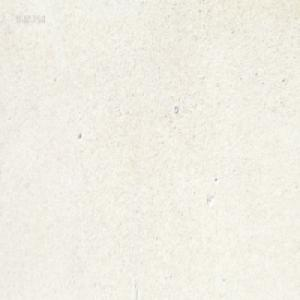Washer: (173, 104, 178, 114)
